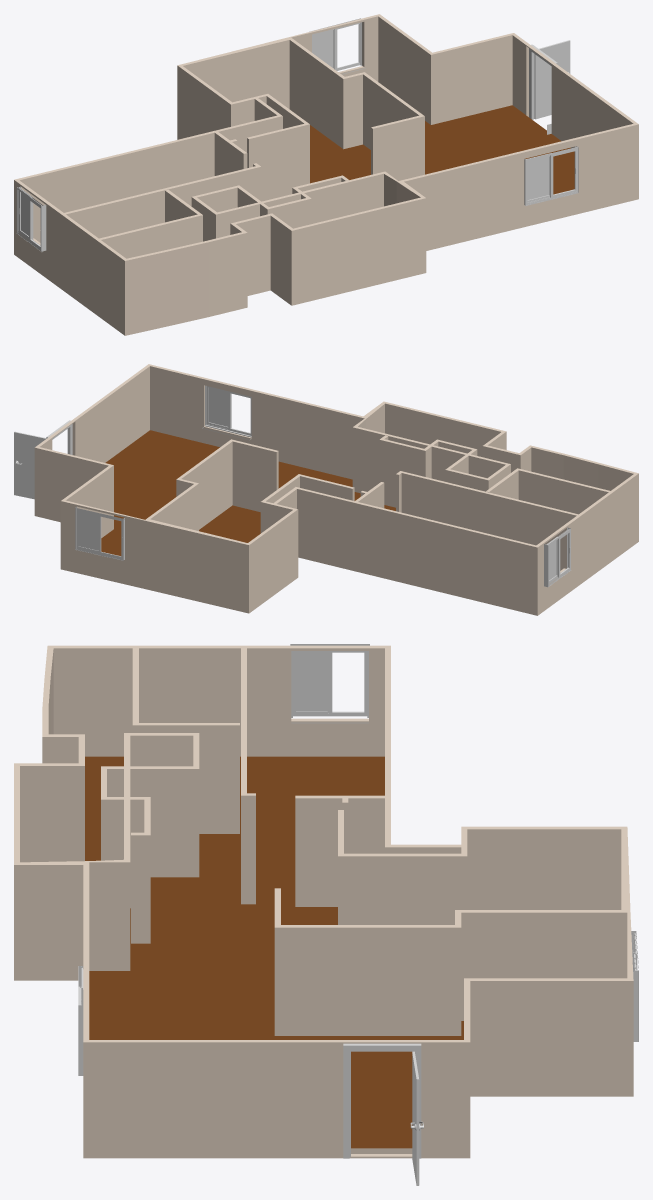
File: old_library.glb
The picture shows the model from 3 angles, top to bottom: view 1: azimuth 30°, elevation 25°; view 2: azimuth 150°, elevation 25°; view 3: azimuth 270°, elevation 25°; orthographic projection. The views are drawn at different scales.
Parts seen in each view (by area): view 1: Plane.001, Door, Window.L, Window.R.001, WindowFrame, Window.L.002, WindowFrame.002, DoorFrame; view 2: Plane.001, Door, Window.L.001, Window.R, WindowFrame.002, WindowFrame.001, Window.L.002; view 3: Plane.001, Window.R.002, DoorFrame, Door, Window.L.002.
Boxes of the visible parts, x1=… form: Plane.001: x1=14, y1=14, x2=638, y2=335; Door: x1=534, y1=40, x2=570, y2=119; Window.L: x1=526, y1=153, x2=550, y2=202; Window.R.001: x1=312, y1=29, x2=334, y2=68; WindowFrame: x1=524, y1=146, x2=578, y2=205; Window.L.002: x1=19, y1=188, x2=33, y2=239; WindowFrame.002: x1=16, y1=186, x2=46, y2=251; DoorFrame: x1=529, y1=44, x2=557, y2=119; Plane.001: x1=34, y1=364, x2=638, y2=615; Door: x1=14, y1=431, x2=46, y2=499; Window.L.001: x1=76, y1=509, x2=101, y2=552; Window.R: x1=207, y1=386, x2=231, y2=428; WindowFrame.002: x1=544, y1=527, x2=570, y2=586; WindowFrame.001: x1=75, y1=507, x2=124, y2=560; Window.L.002: x1=546, y1=536, x2=557, y2=583; Plane.001: x1=14, y1=645, x2=633, y2=1158; Window.R.002: x1=293, y1=651, x2=328, y2=714; DoorFrame: x1=343, y1=1043, x2=421, y2=1158; Door: x1=412, y1=1051, x2=419, y2=1185; Window.L.002: x1=328, y1=651, x2=367, y2=716.
Bounding box in the file's own units: 13.05 × 1.72 × 8.02.
